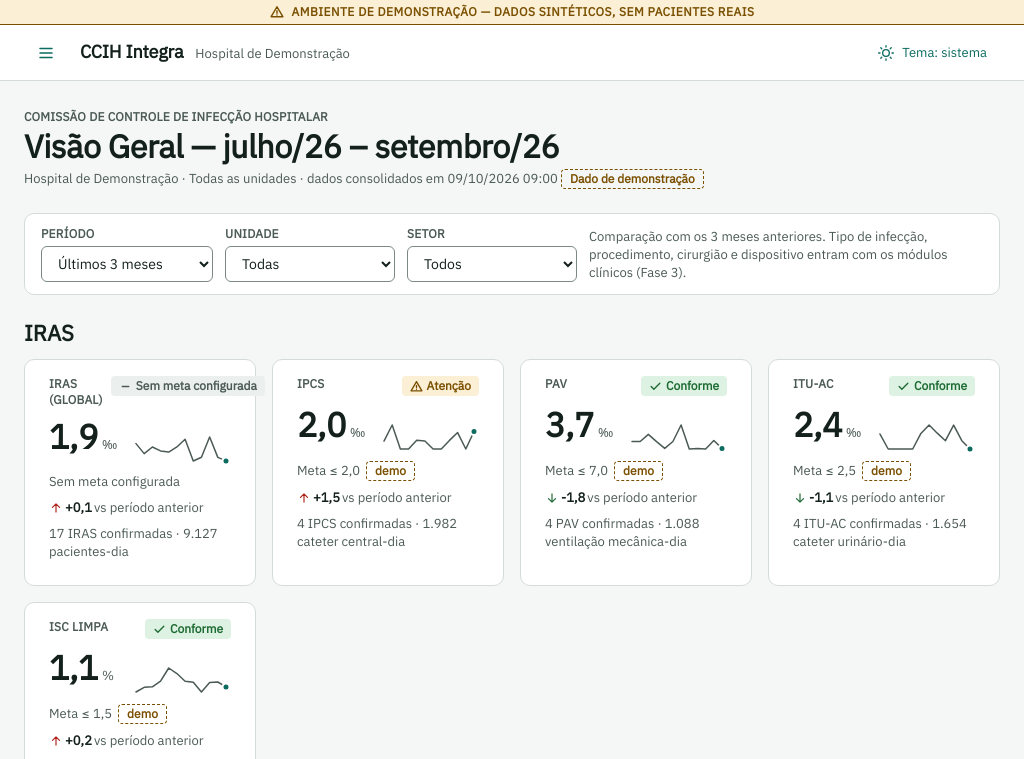
Test: app › renders the executive KPIs from the engine and applies the sector filter
Expected: the text "IRAS (global)" is shown, 49,376 -> 103,408
Expected: the text "IPCS" is shown, 297,376 -> 324,392
Select "Clínica Médica" in the dropdown labelled "Setor". click: (492, 264)
box: 407,246 -> 577,282
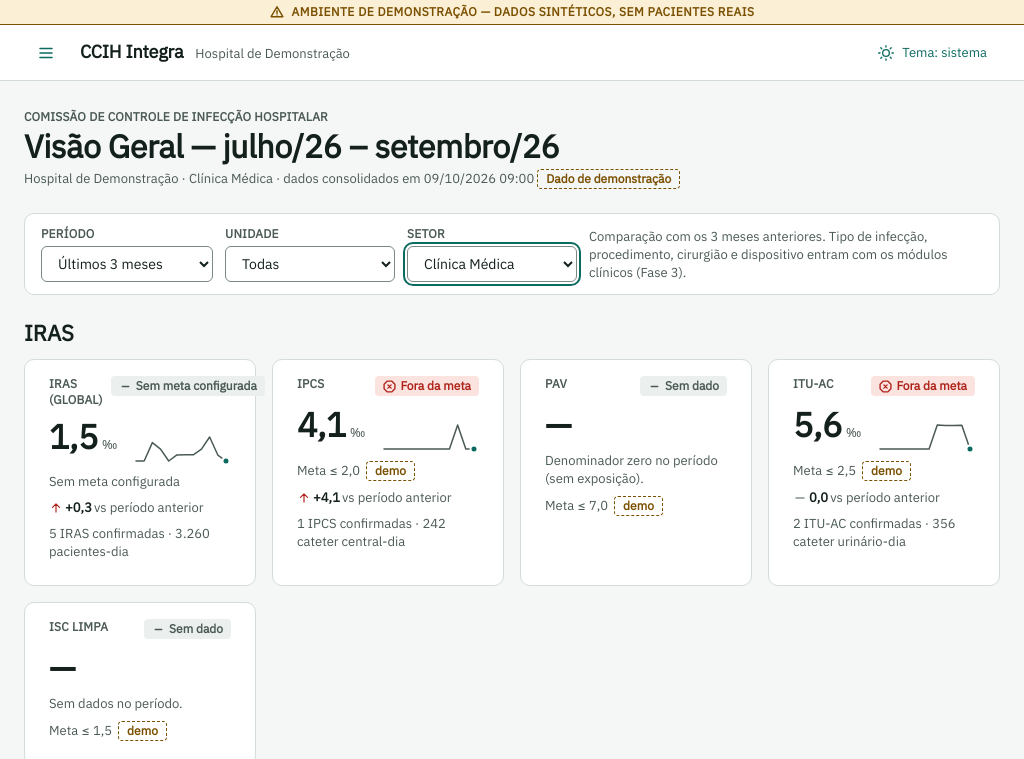
Expected: the text "Clínica Médica · dados consolidados" is shown, 24,169 -> 680,189
